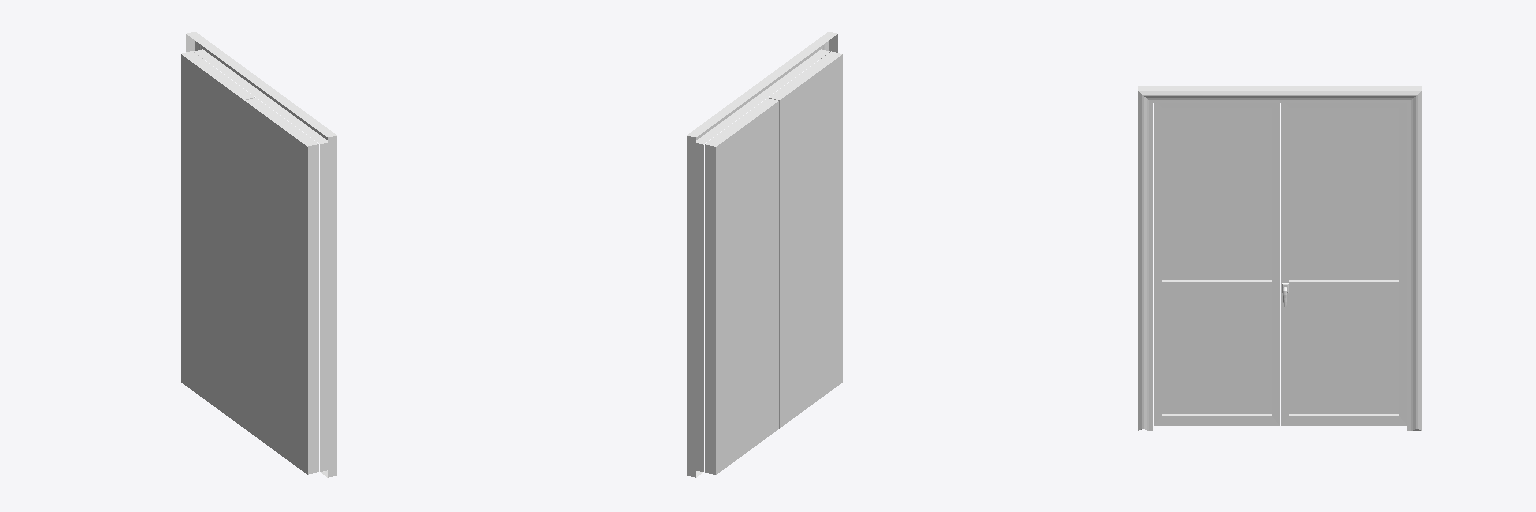
File: Portafinestra.obj
3 renders of one model, left to right at view 1: azimuth 30°, elevation 25°; view 2: azimuth 150°, elevation 25°; view 3: azimuth 270°, elevation 25°, orthographic.
Parts seen in each view (by area): view 1: Portafinestra_uv_map_.1; view 2: Portafinestra_uv_map_.1; view 3: Portafinestra_uv_map_.1.
Boxes of the visible parts, x1=… form: Portafinestra_uv_map_.1: x1=181, y1=32, x2=336, y2=477; Portafinestra_uv_map_.1: x1=687, y1=32, x2=842, y2=477; Portafinestra_uv_map_.1: x1=1138, y1=86, x2=1421, y2=430.
Size of the model in its own units: 17.14 by 239 by 181.